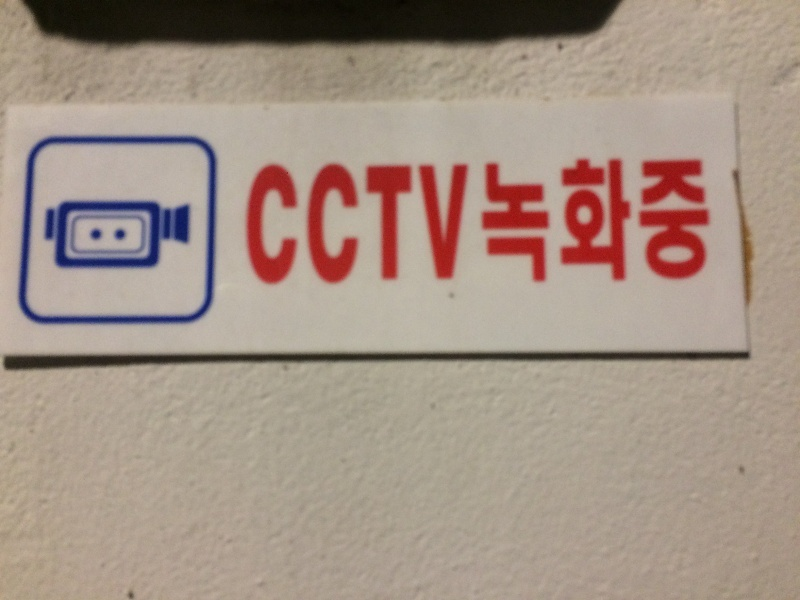text: (481, 156, 496, 287), (497, 156, 512, 287), (513, 156, 528, 287), (529, 156, 544, 287), (545, 156, 560, 287), (561, 156, 576, 287), (577, 156, 592, 287), (593, 156, 608, 287), (609, 156, 624, 287), (625, 156, 640, 287), (641, 156, 656, 287), (657, 156, 672, 287), (673, 156, 688, 287), (689, 156, 704, 287), (257, 160, 272, 290), (273, 160, 288, 290), (289, 160, 304, 290), (305, 160, 320, 290), (321, 160, 336, 290), (337, 160, 352, 290), (353, 160, 368, 290), (369, 160, 384, 290), (385, 160, 400, 290), (401, 160, 416, 290), (417, 160, 432, 290), (433, 160, 448, 290), (449, 160, 464, 290), (705, 156, 717, 287), (245, 160, 256, 290), (465, 160, 471, 290), (478, 156, 480, 287)
